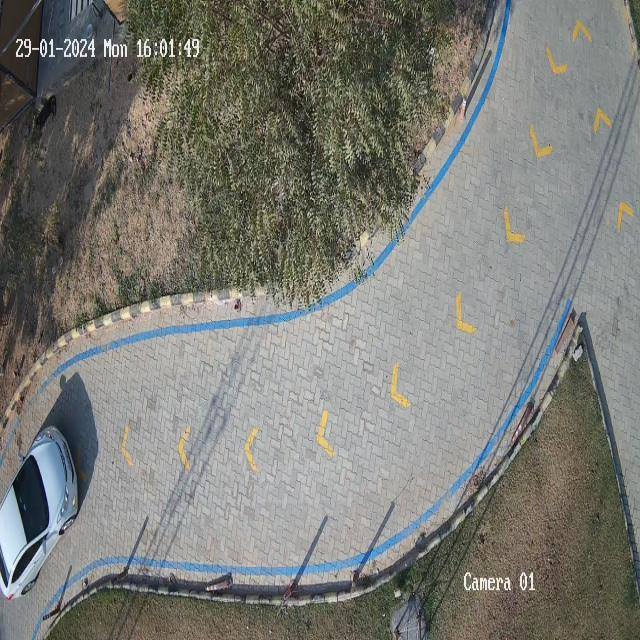car: (0, 427, 78, 600)
